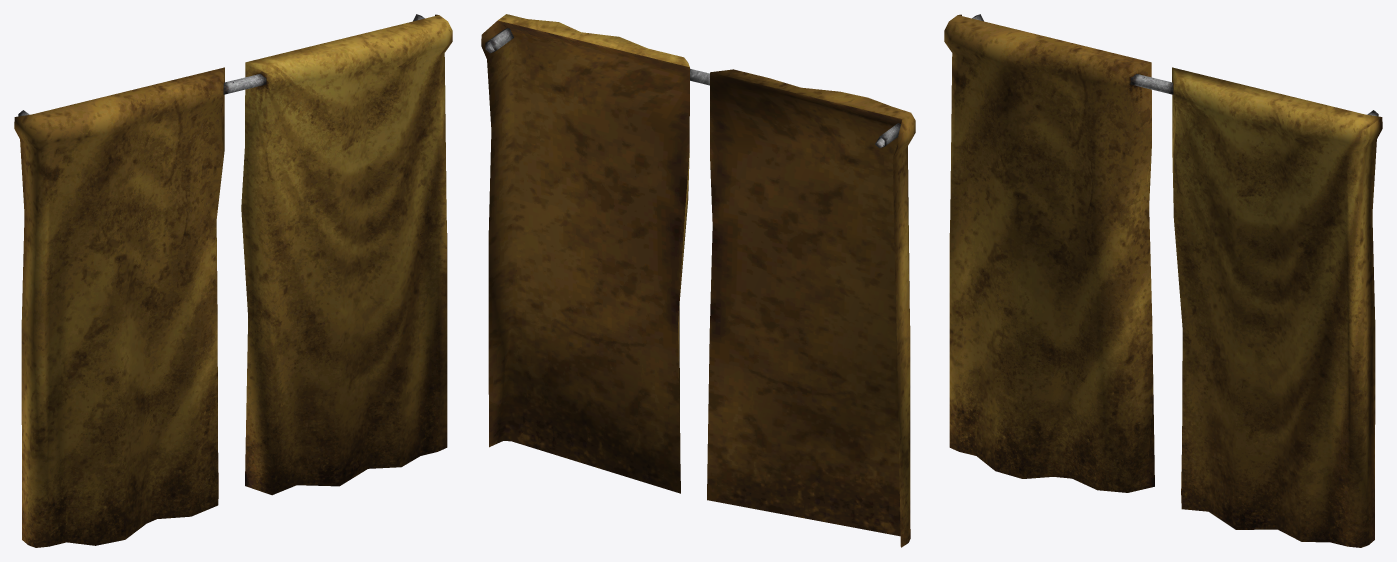
Rendered from curtain13_closed.dae.
The picture shows the model from 3 angles, left to right: view 1: azimuth 30°, elevation 25°; view 2: azimuth 150°, elevation 25°; view 3: azimuth 330°, elevation 25°; orthographic projection.
Parts seen in each view (by area): view 1: curtain01_closed; view 2: curtain01_closed; view 3: curtain01_closed.
Boxes of the visible parts, x1,y1,x2,y2 form: curtain01_closed: [14, 14, 452, 547]; curtain01_closed: [481, 14, 915, 547]; curtain01_closed: [944, 14, 1382, 547].
Size of the model in its own units: 3.74 by 3.68 by 0.508.
